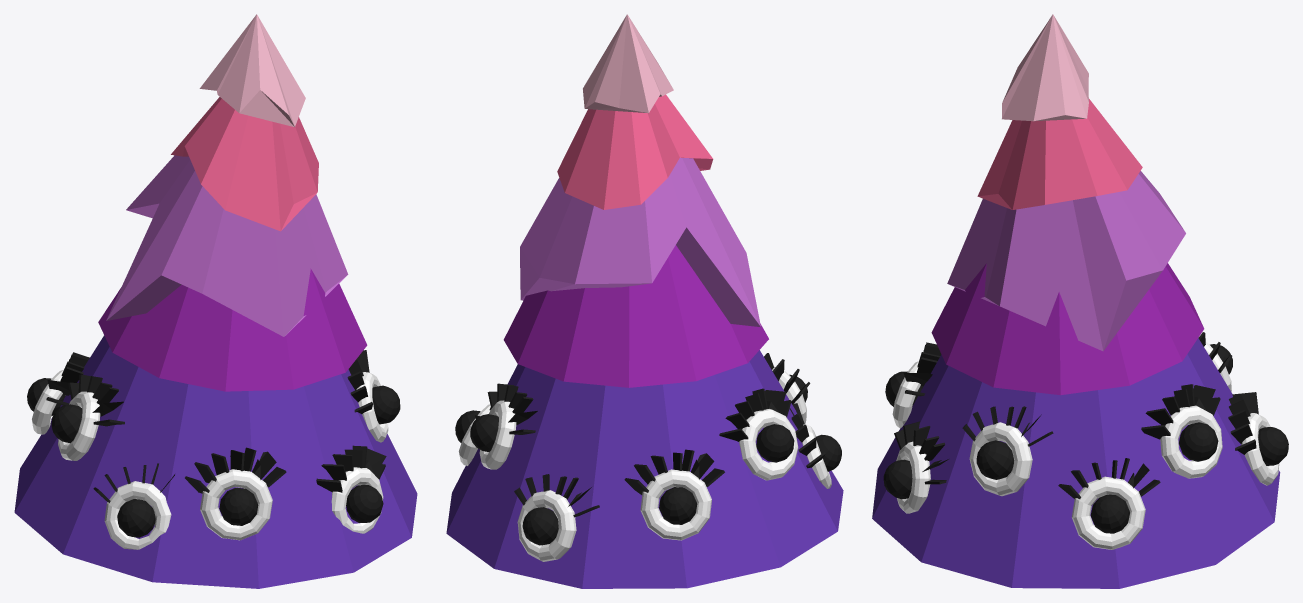
File: Lesse.fbx
3 renders of one model, left to right at view 1: azimuth 30°, elevation 25°; view 2: azimuth 150°, elevation 25°; view 3: azimuth 270°, elevation 25°, orthographic. The views are drawn at different scales.
Parts seen in each view (by area): view 1: mesh_892582508, mesh_1357674421, mesh_1412235233, mesh_1938605663, mesh_626864921, mesh_1341050053, mesh_1941972603, mesh_934263939, mesh_344379558, mesh_39689370, mesh_1753271651, mesh_332718819 (+4 smaller); view 2: mesh_892582508, mesh_1412235233, mesh_1357674421, mesh_1938605663, mesh_626864921, mesh_136742214, mesh_1931629962, mesh_934263939, mesh_862599200, mesh_280199988, mesh_210116220, mesh_606725247 (+4 smaller); view 3: mesh_892582508, mesh_1357674421, mesh_1412235233, mesh_1938605663, mesh_626864921, mesh_1663697601, mesh_1668630833, mesh_862599200, mesh_344379558, mesh_356678989, mesh_441106998, mesh_496054778 (+4 smaller).
Part boxes in pixels (bbox=[...]): mesh_892582508: bbox=[14, 335, 417, 588]; mesh_1357674421: bbox=[106, 155, 348, 336]; mesh_1412235233: bbox=[98, 268, 367, 391]; mesh_1938605663: bbox=[171, 97, 318, 231]; mesh_626864921: bbox=[199, 14, 305, 127]; mesh_1341050053: bbox=[200, 469, 272, 540]; mesh_1941972603: bbox=[104, 481, 171, 549]; mesh_934263939: bbox=[58, 391, 100, 460]; mesh_344379558: bbox=[331, 467, 383, 533]; mesh_39689370: bbox=[117, 499, 155, 537]; mesh_1753271651: bbox=[219, 487, 258, 525]; mesh_332718819: bbox=[346, 485, 383, 522]; mesh_892582508: bbox=[446, 350, 843, 588]; mesh_1412235233: bbox=[503, 245, 768, 387]; mesh_1357674421: bbox=[520, 157, 760, 327]; mesh_1938605663: bbox=[557, 94, 713, 209]; mesh_626864921: bbox=[583, 14, 673, 113]; mesh_136742214: bbox=[640, 469, 711, 540]; mesh_1931629962: bbox=[517, 490, 576, 561]; mesh_934263939: bbox=[739, 409, 798, 480]; mesh_862599200: bbox=[479, 400, 516, 469]; mesh_280199988: bbox=[756, 424, 794, 462]; mesh_210116220: bbox=[659, 487, 697, 524]; mesh_606725247: bbox=[522, 507, 558, 545]; mesh_892582508: bbox=[872, 338, 1280, 588]; mesh_1357674421: bbox=[947, 171, 1185, 351]; mesh_1412235233: bbox=[931, 263, 1204, 395]; mesh_1938605663: bbox=[977, 99, 1142, 209]; mesh_626864921: bbox=[1002, 14, 1088, 121]; mesh_1663697601: bbox=[1071, 476, 1145, 549]; mesh_1668630833: bbox=[969, 422, 1032, 496]; mesh_862599200: bbox=[1160, 405, 1222, 478]; mesh_344379558: bbox=[896, 441, 930, 513]; mesh_356678989: bbox=[1179, 422, 1218, 461]; mesh_441106998: bbox=[1090, 494, 1130, 533]; mesh_496054778: bbox=[976, 440, 1014, 479].
Size of the model in its own units: 82.14 by 112 by 83.93.
